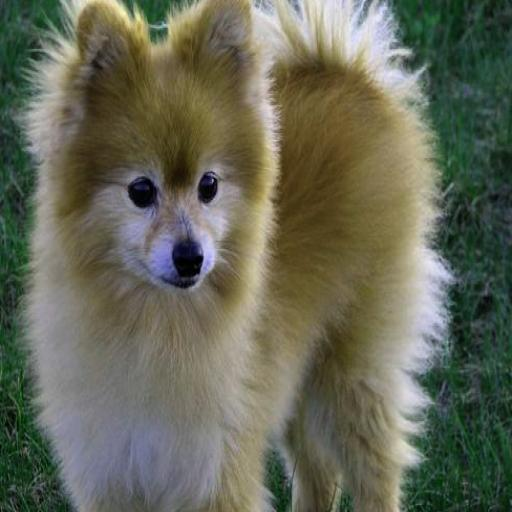dog_face: (71, 2, 250, 289)
